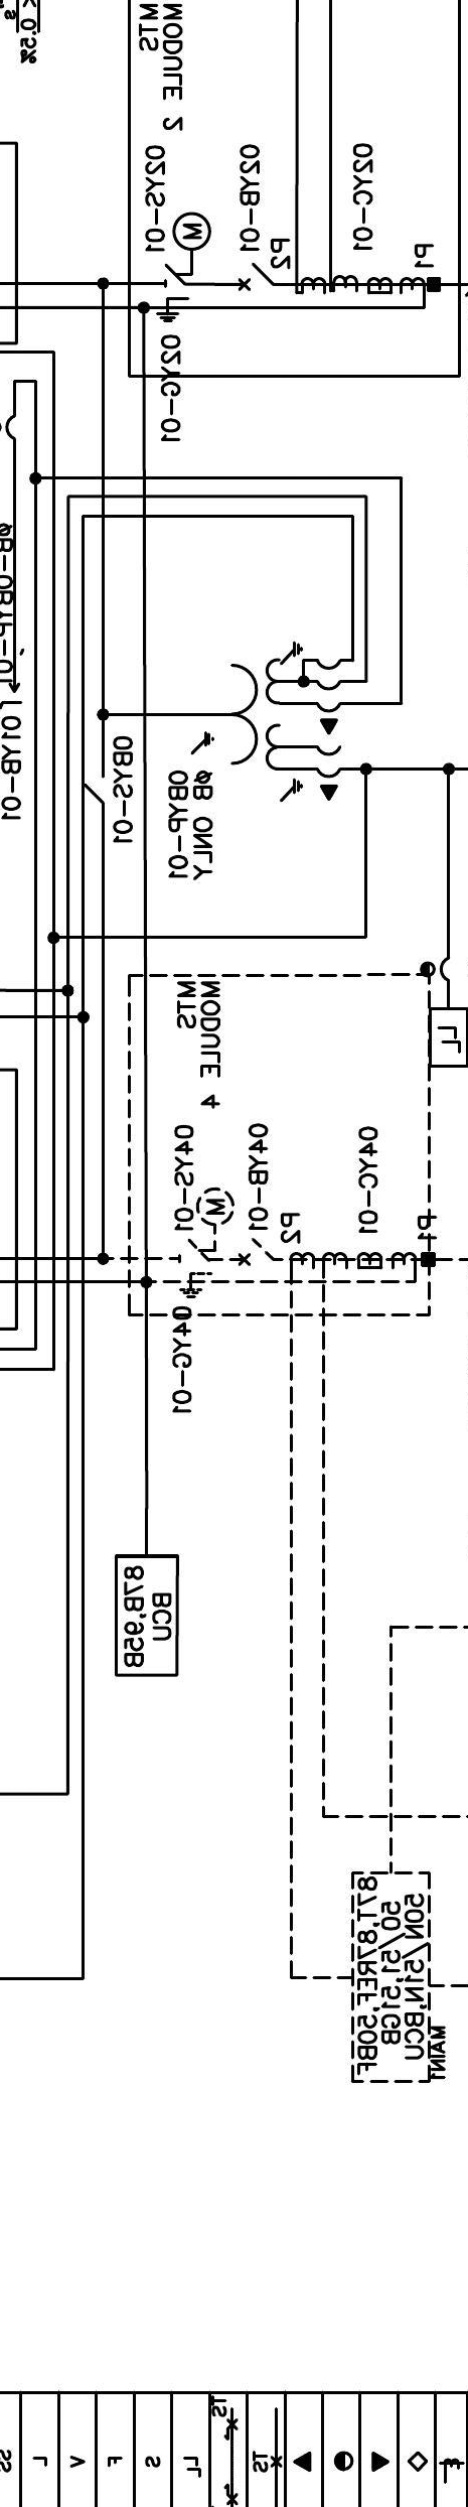115_3ways_ds_w_motor: (155, 211, 212, 323)
115_breaker: (238, 262, 275, 291)
115_ds: (85, 774, 105, 804)
115_vt_1p: (190, 640, 342, 803)
